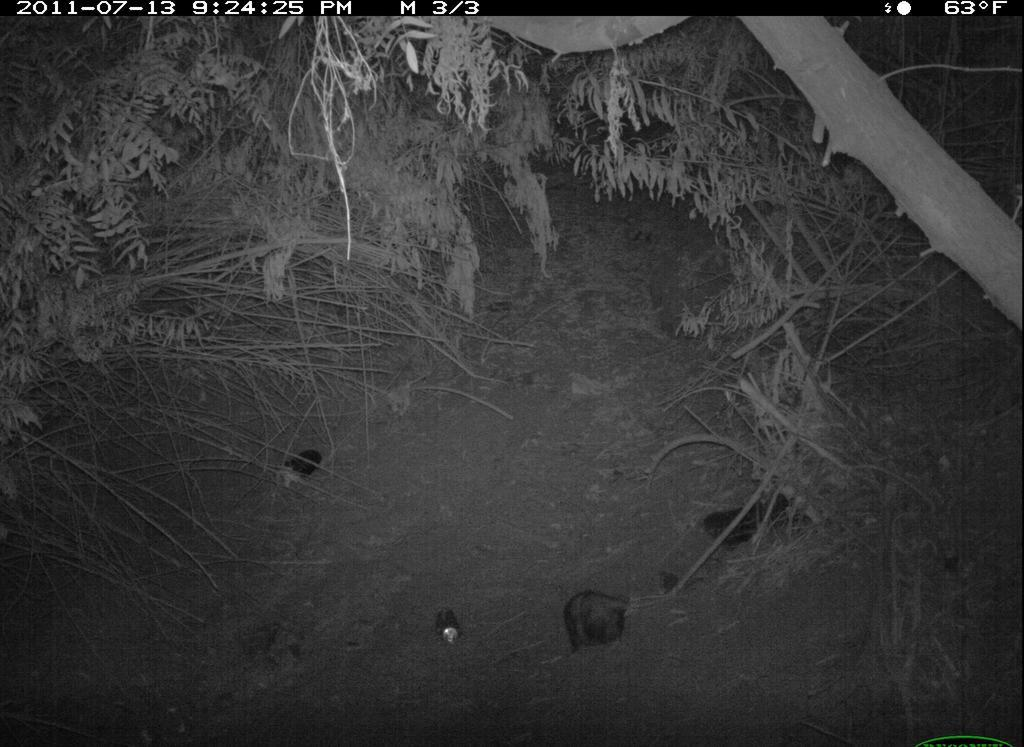opossum: (557, 573, 647, 655)
